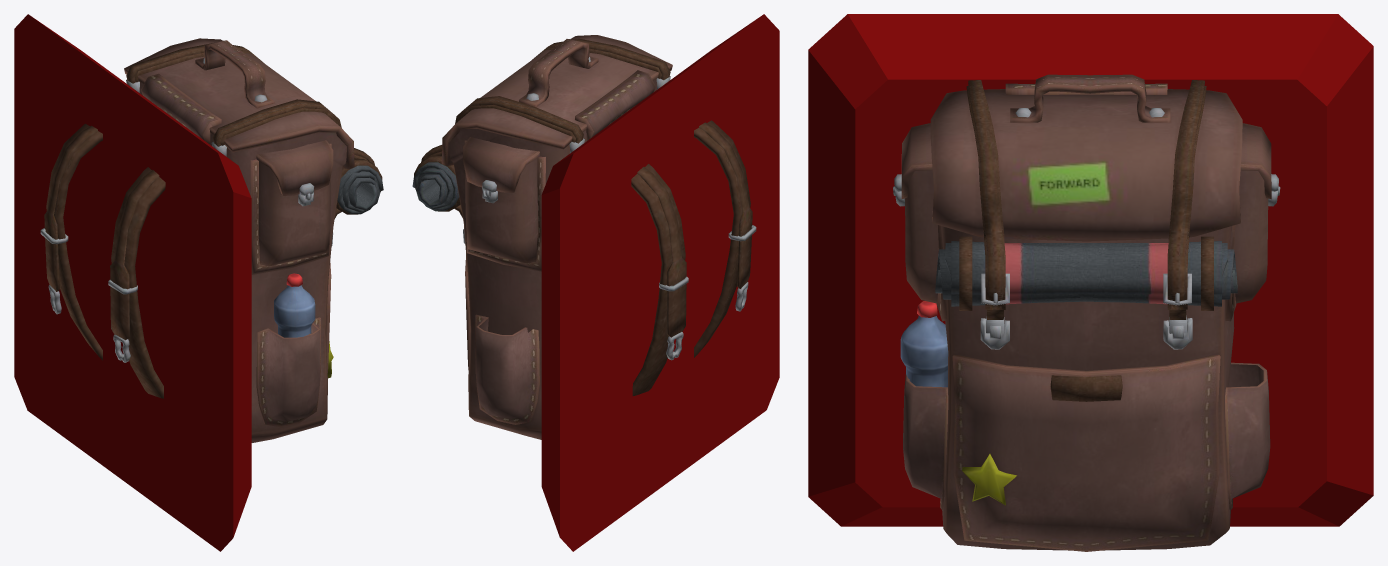
The model's file is MaroonBackTab.glb.
3 views of the same model, side by side, from view 1: azimuth 30°, elevation 25°; view 2: azimuth 150°, elevation 25°; view 3: azimuth 270°, elevation 25° (orthographic). The views are drawn at different scales.
Visible parts, largest first — view 1: Cube, bag.003_low, bag_low, bag.036_low, bag.018_low, bag.041_low, bag.045_low, bag.019_low, bag.039_low, bag.024_low, bag.006_low, bag.004_low (+6 smaller); view 2: Cube, bag_low, bag.003_low, bag.037_low, bag.020_low, bag.045_low, bag.041_low, bag.021_low, bag.043_low, bag.024_low, bag.006_low, bag.039_low (+5 smaller); view 3: Cube, bag.001_low, bag.003_low, bag_low, bag.011_low, bag.037_low, bag.036_low, bag.030_low, bag.029_low, bag.020_low, bag.018_low, bag.006_low (+11 smaller).
Part boxes in pixels (x1=…): Cube: x1=14, y1=14, x2=251, y2=551; bag.003_low: x1=124, y1=38, x2=354, y2=169; bag_low: x1=139, y1=82, x2=346, y2=442; bag.036_low: x1=256, y1=317, x2=320, y2=427; bag.018_low: x1=258, y1=161, x2=330, y2=266; bag.041_low: x1=111, y1=167, x2=165, y2=398; bag.045_low: x1=46, y1=123, x2=102, y2=360; bag.019_low: x1=256, y1=140, x2=333, y2=195; bag.039_low: x1=110, y1=170, x2=159, y2=340; bag.024_low: x1=141, y1=73, x2=221, y2=144; bag.006_low: x1=195, y1=40, x2=274, y2=108; bag.004_low: x1=274, y1=285, x2=315, y2=337; Cube: x1=541, y1=14, x2=779, y2=551; bag_low: x1=449, y1=79, x2=656, y2=439; bag.003_low: x1=441, y1=35, x2=672, y2=165; bag.037_low: x1=475, y1=314, x2=539, y2=424; bag.020_low: x1=465, y1=158, x2=537, y2=263; bag.045_low: x1=631, y1=164, x2=685, y2=395; bag.041_low: x1=694, y1=120, x2=750, y2=357; bag.021_low: x1=463, y1=137, x2=539, y2=192; bag.043_low: x1=637, y1=167, x2=686, y2=337; bag.024_low: x1=575, y1=70, x2=655, y2=140; bag.006_low: x1=519, y1=39, x2=598, y2=107; bag.039_low: x1=699, y1=122, x2=752, y2=288; Cube: x1=808, y1=14, x2=1373, y2=526; bag.001_low: x1=952, y1=354, x2=1220, y2=551; bag.003_low: x1=930, y1=89, x2=1242, y2=241; bag_low: x1=941, y1=226, x2=1234, y2=550; bag.011_low: x1=935, y1=241, x2=1237, y2=306; bag.037_low: x1=1225, y1=362, x2=1270, y2=509; bag.036_low: x1=903, y1=374, x2=948, y2=509; bag.030_low: x1=1169, y1=80, x2=1204, y2=309; bag.029_low: x1=968, y1=80, x2=1003, y2=309; bag.020_low: x1=1234, y1=170, x2=1268, y2=303; bag.018_low: x1=904, y1=170, x2=938, y2=303; bag.006_low: x1=1010, y1=74, x2=1170, y2=122.
Size of the model in its own units: 1.66 by 2.42 by 2.4.
2 materials, 1 textured.
